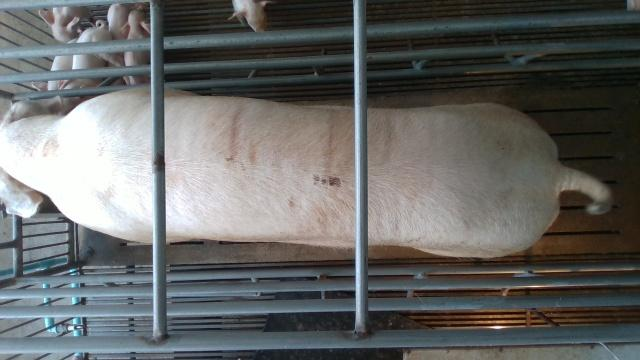piglet: (60, 20, 124, 88), (126, 3, 153, 84), (38, 8, 94, 45), (106, 3, 128, 85), (45, 37, 79, 90), (228, 0, 275, 32)
sow-stand-feed: (0, 85, 610, 260)
